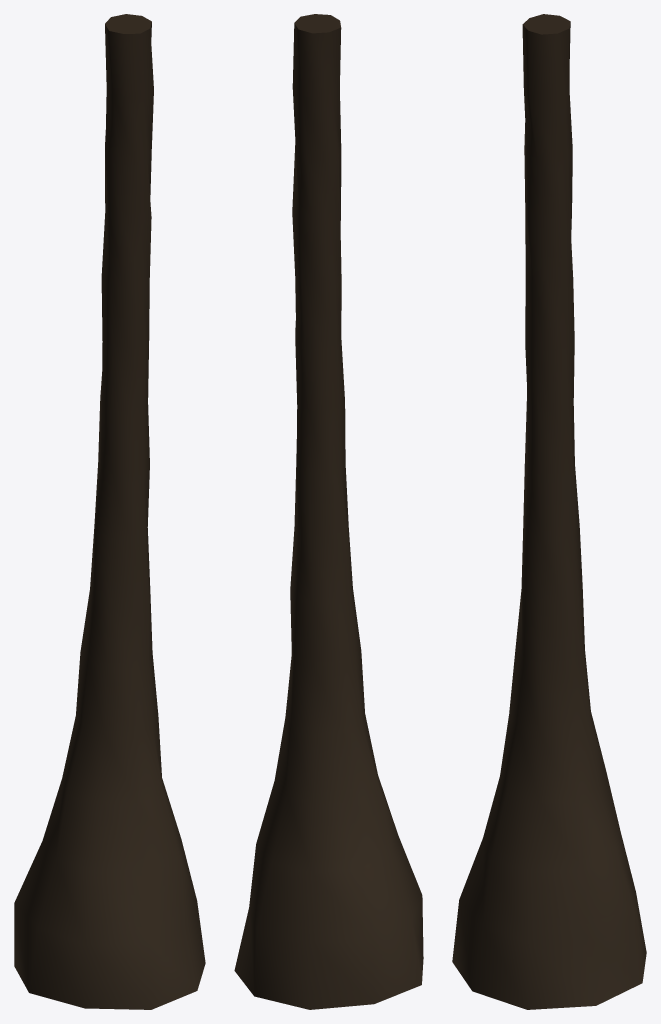
Rendered from tree_trunk.glb.
The picture shows the model from 3 angles, left to right: view 1: azimuth 30°, elevation 25°; view 2: azimuth 150°, elevation 25°; view 3: azimuth 270°, elevation 25°; orthographic projection.
Visible parts, largest first — view 1: tree-trunk; view 2: tree-trunk; view 3: tree-trunk.
Part boxes in pixels (x1=…): tree-trunk: x1=14, y1=14, x2=205, y2=1009; tree-trunk: x1=234, y1=14, x2=423, y2=1009; tree-trunk: x1=452, y1=14, x2=646, y2=1009.
Size of the model in its own units: 0.6082 by 3.26 by 0.6032.
